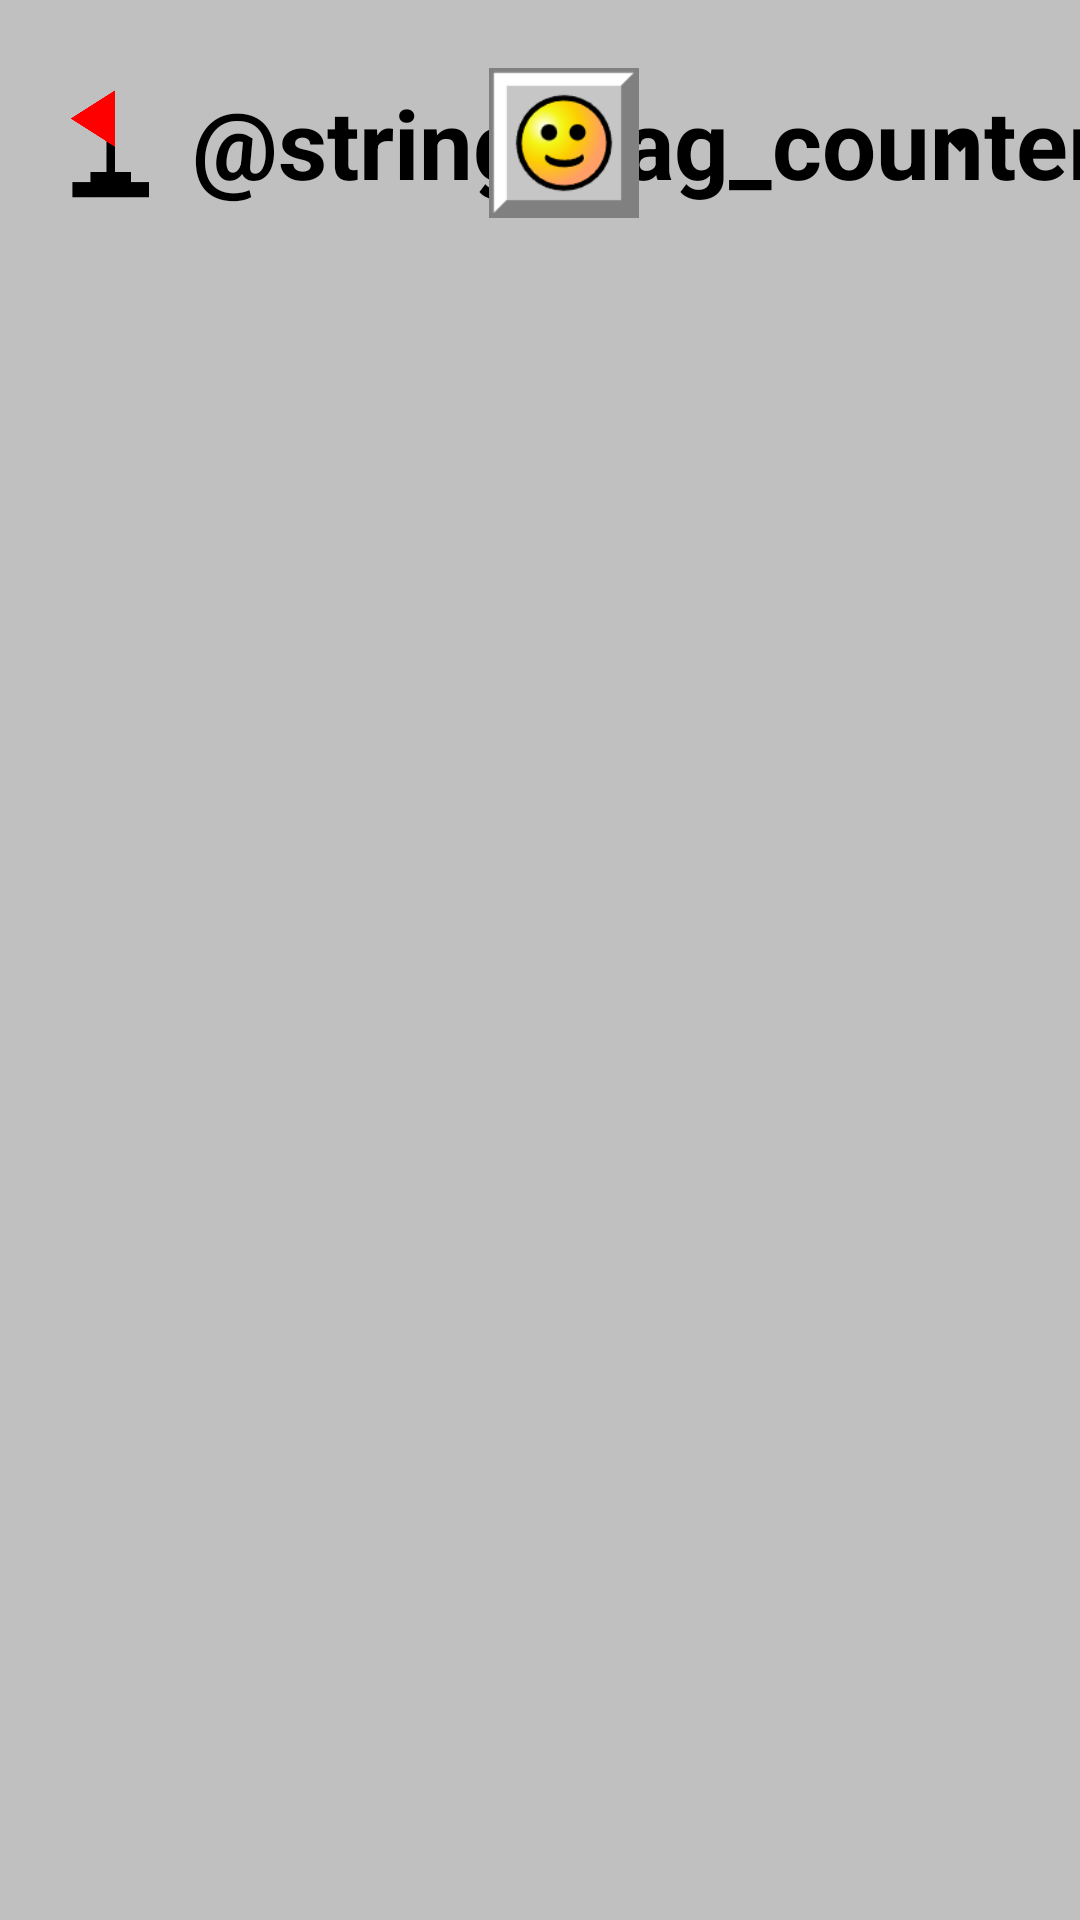

Named icons in this screenshot (1080x1920) and their centers, (x=x, y=y):
restart: (x=564, y=143)
